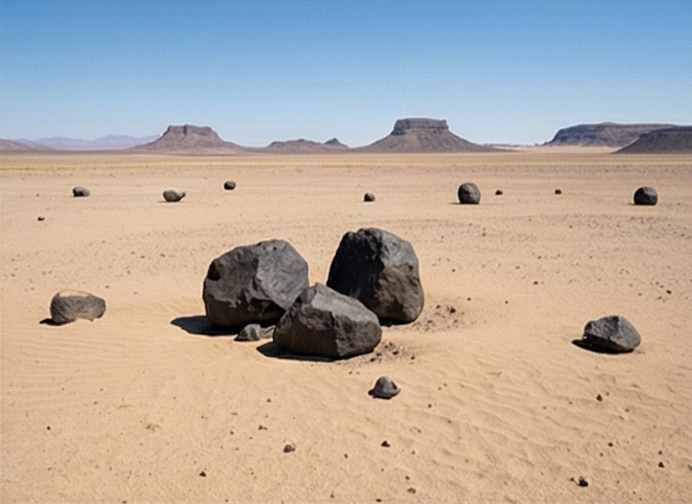rocks: (271, 280, 381, 358), (578, 313, 639, 351), (47, 287, 105, 323), (367, 375, 399, 399), (233, 322, 273, 341), (456, 182, 479, 204), (632, 184, 657, 204), (161, 188, 184, 200), (71, 186, 89, 196), (223, 179, 236, 189), (282, 443, 295, 453), (363, 191, 375, 201)
